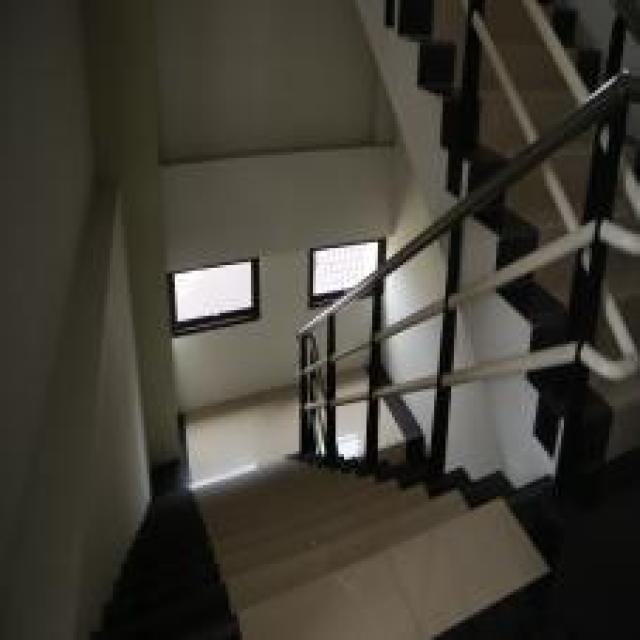downstair: (181, 497, 489, 638)
